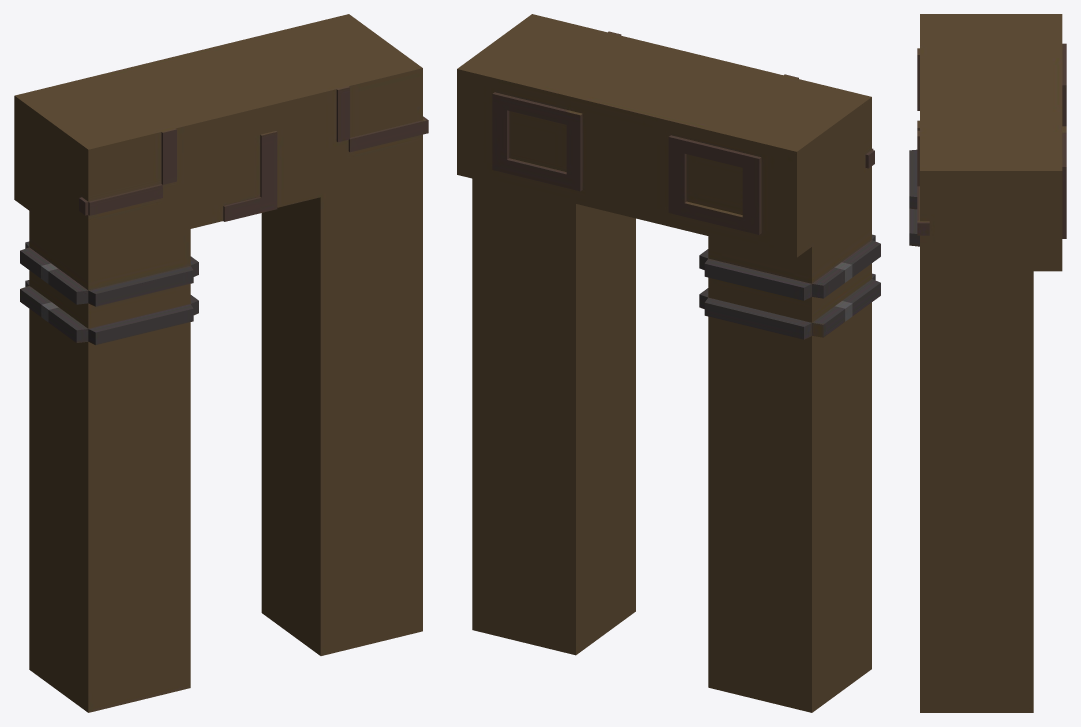
Rendered from pants_canvas.glb.
The picture shows the model from 3 angles, left to right: view 1: azimuth 30°, elevation 25°; view 2: azimuth 150°, elevation 25°; view 3: azimuth 270°, elevation 25°; orthographic projection. The views are drawn at different scales.
Visible parts, largest first — view 1: brown_pants.001; view 2: brown_pants.001; view 3: brown_pants.001.
Part boxes in pixels (x1,y1,x2,y2): brown_pants.001: (14, 14, 428, 712); brown_pants.001: (457, 14, 880, 712); brown_pants.001: (909, 14, 1066, 712).
Bounding box in the file's own units: 2.85 × 4.4 × 1.16.
1 material, 1 textured.
